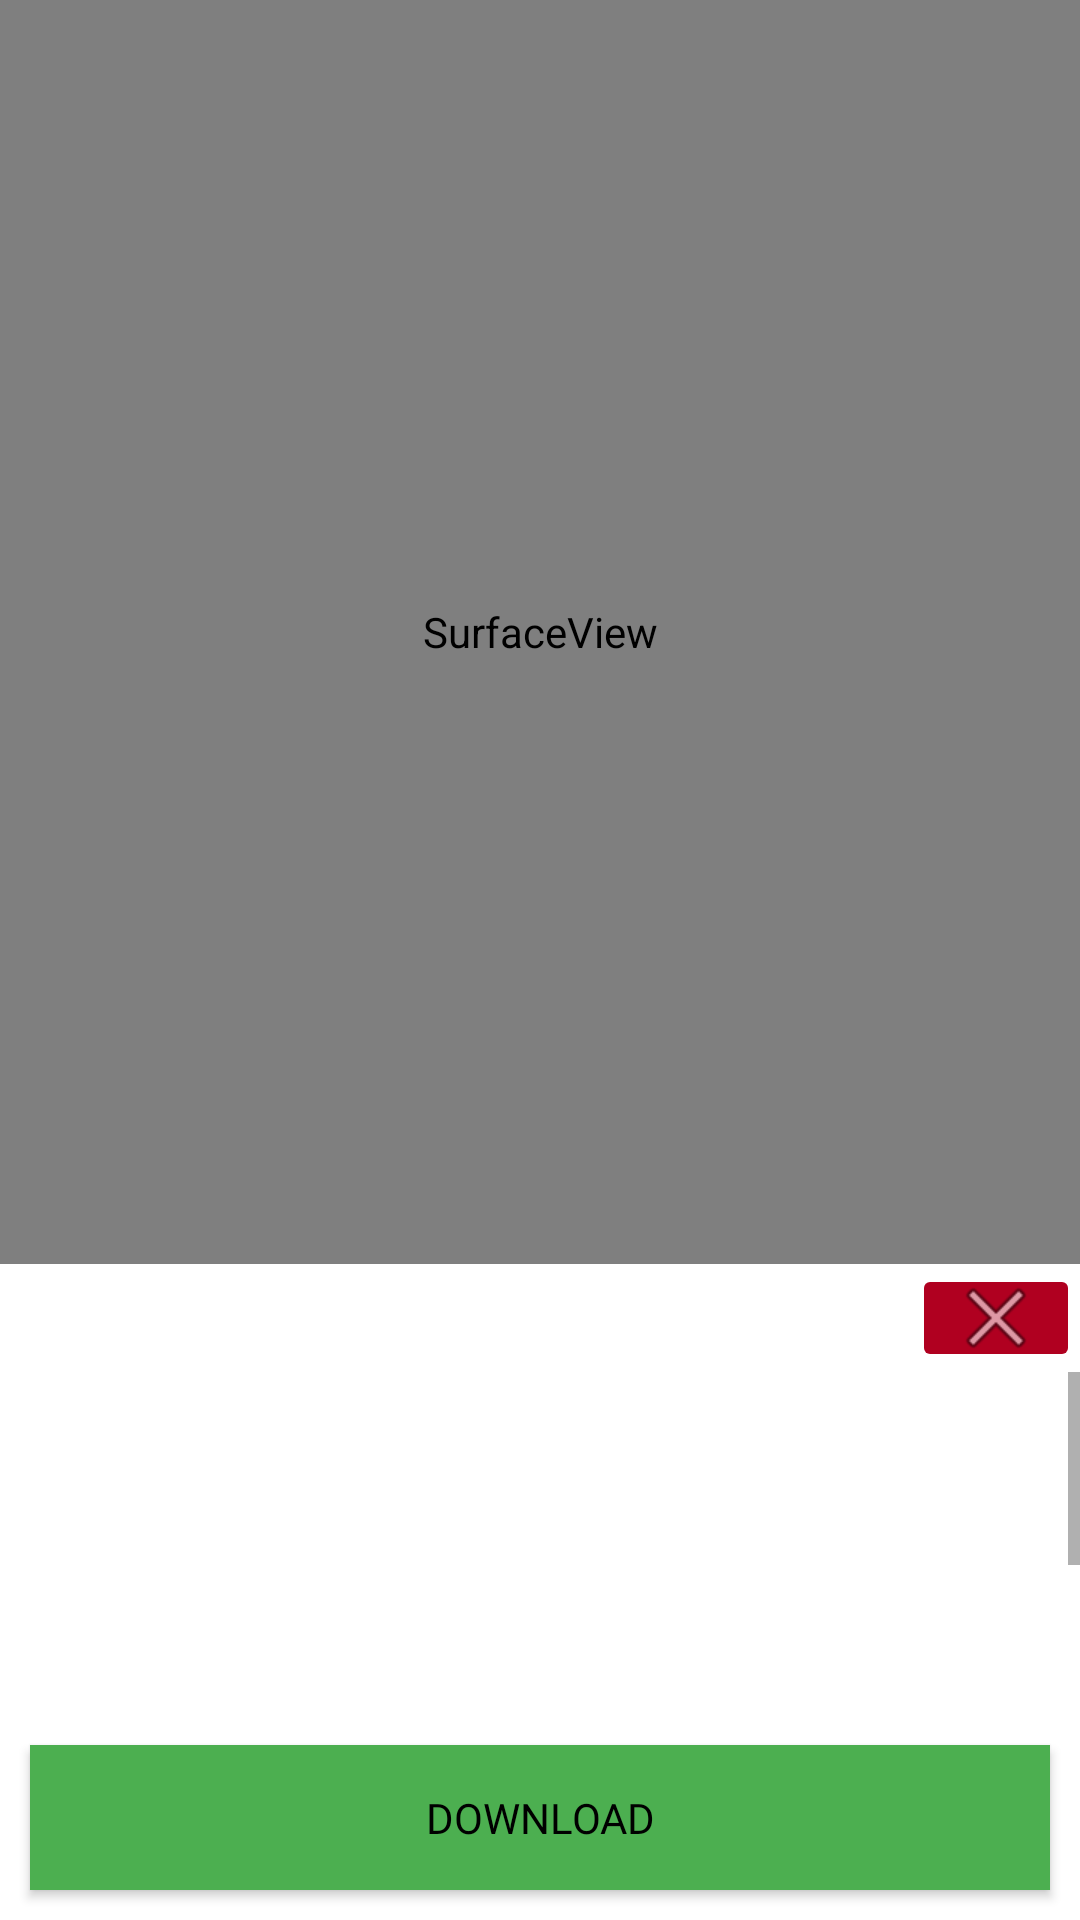

Where to tap for icons on this 1080px x 1920px app screen, as point (x, y):
close clear cancel: point (996, 1318)
